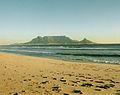human_footprint: (82, 80, 96, 88), (60, 78, 70, 88), (50, 86, 63, 93), (104, 82, 114, 90), (96, 78, 103, 86), (96, 84, 103, 92), (42, 80, 47, 87)
